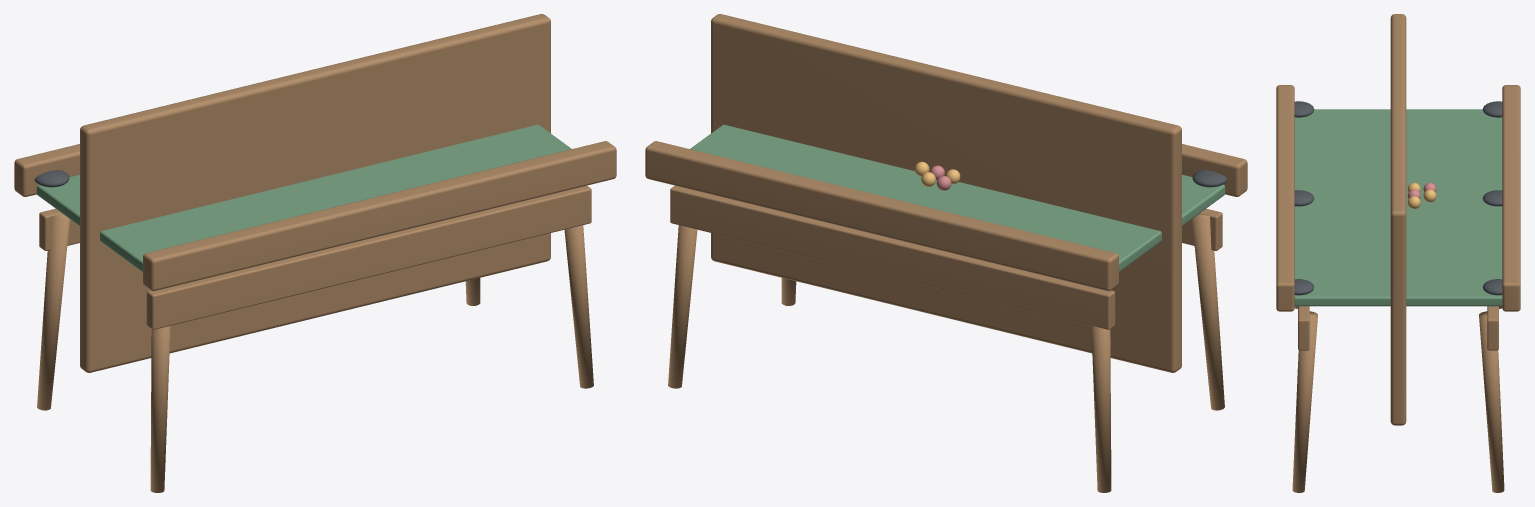
File: atelier-billiards-table.glb
The picture shows the model from 3 angles, left to right: view 1: azimuth 30°, elevation 25°; view 2: azimuth 150°, elevation 25°; view 3: azimuth 270°, elevation 25°; orthographic projection. The views are drawn at different scales.
Parts seen in each view (by area): view 1: legs.235, artGreen.022; view 2: legs.235, artGreen.022; view 3: artGreen.022, legs.235, metal.200, artGold.021.
Boxes of the visible parts, x1,y1,x2,y2 form: legs.235: (14, 14, 616, 492); artGreen.022: (36, 124, 571, 271); legs.235: (645, 14, 1247, 492); artGreen.022: (690, 124, 1225, 271); artGreen.022: (1294, 109, 1502, 306); legs.235: (1276, 14, 1520, 492); metal.200: (1294, 101, 1502, 295); artGold.021: (1407, 182, 1436, 208).
Bounding box in the file's own units: 1.8 × 1.2 × 0.93.
